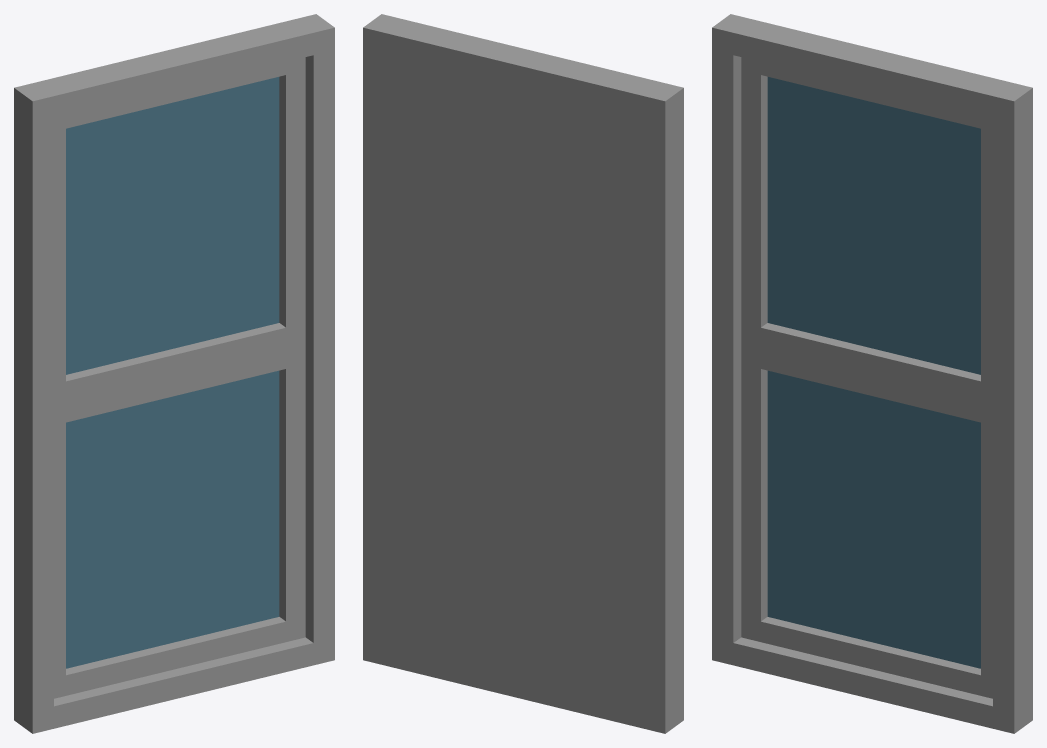
Rendered from window021.glb.
3 views of the same model, side by side, from view 1: azimuth 30°, elevation 25°; view 2: azimuth 150°, elevation 25°; view 3: azimuth 330°, elevation 25° (orthographic).
Visible parts, largest first — view 1: window.021; view 2: window.021; view 3: window.021.
Part boxes in pixels (x1,y1,x2,y2): window.021: (14, 14, 334, 733); window.021: (363, 14, 683, 733); window.021: (712, 14, 1032, 733).
Size of the model in its own units: 1 by 2 by 0.1066.
1 material, 1 textured.
